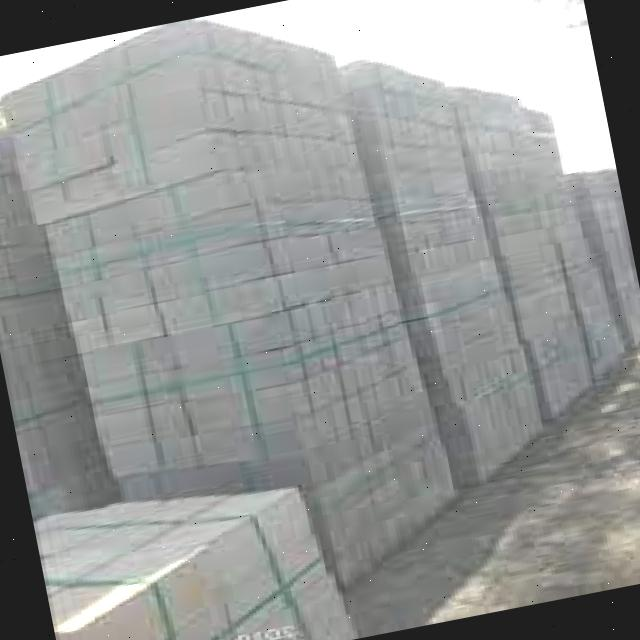bricks: (4, 19, 455, 580)
